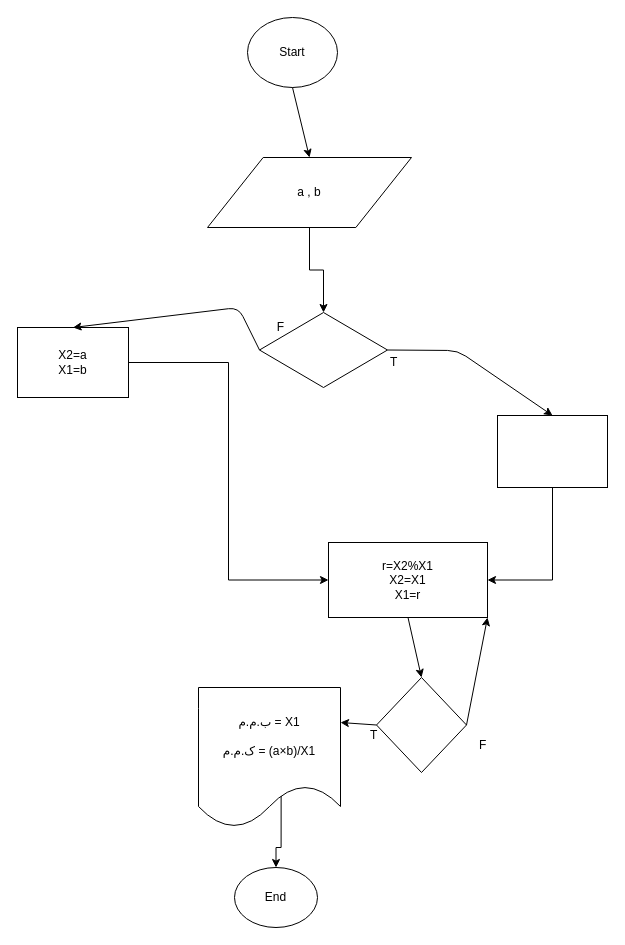
This 625x945 diagram has some shape labels left out. The box of each missing label's shape, as (x1, y1, x2, y2) in pixels:
a<b: (258, 312, 388, 388)
r=0: (376, 676, 466, 772)
X2=b X1=a: (496, 414, 608, 488)
